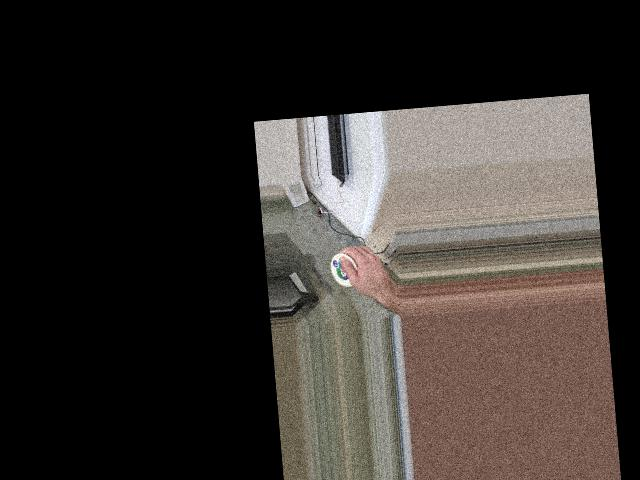cotage: (329, 251, 362, 288)
